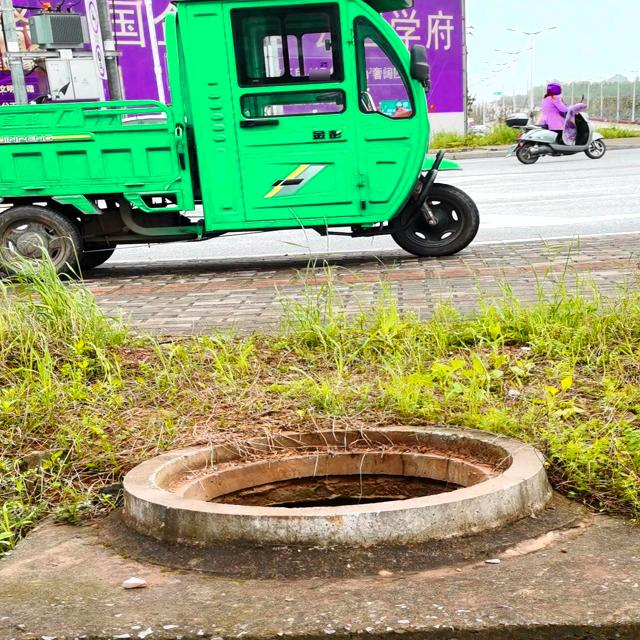lose: (129, 416, 549, 546)
